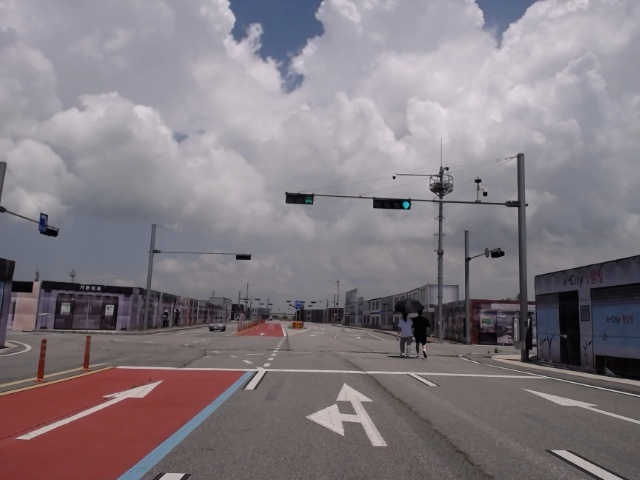straight_green_4: (373, 198, 411, 209)
